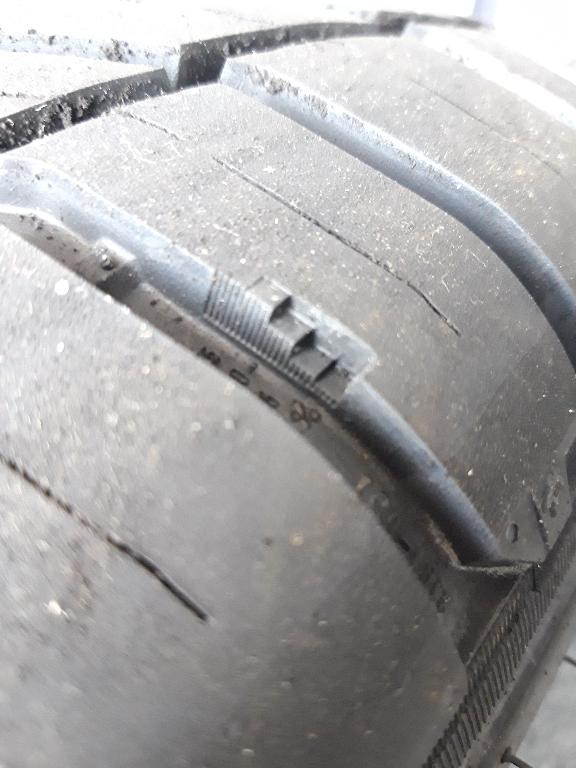temoin:75: (230, 273, 382, 420)
